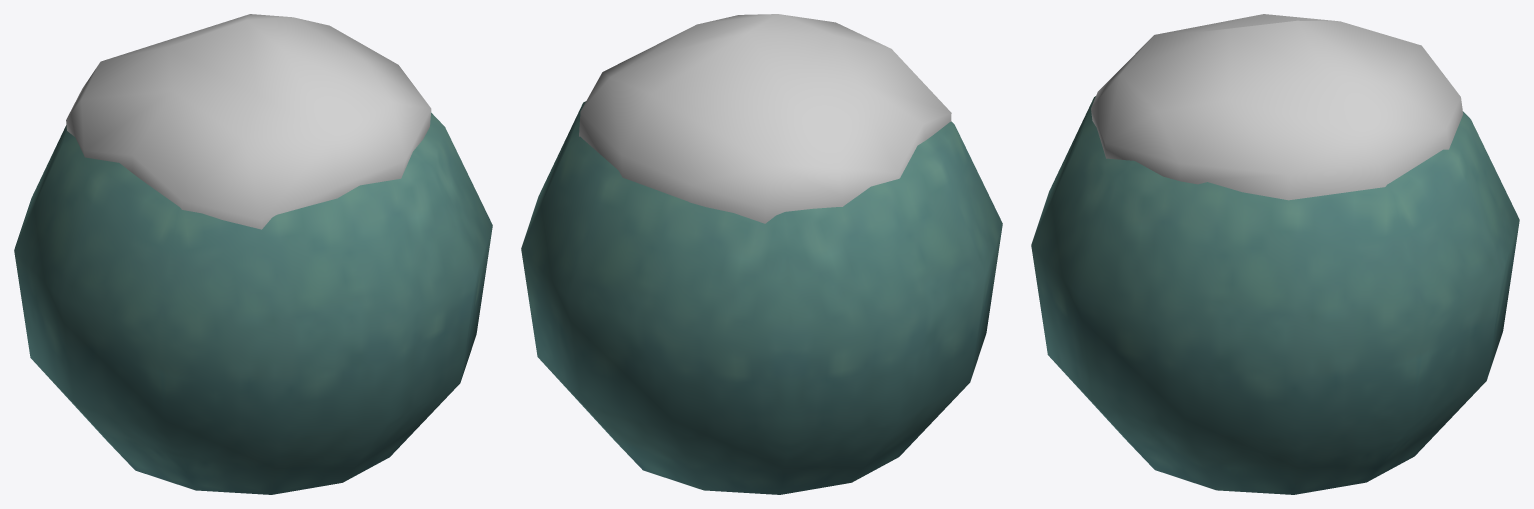
File: pref_sm_city_gtree03_snow_lv3.fbx
3 views of the same model, side by side, from view 1: azimuth 30°, elevation 25°; view 2: azimuth 150°, elevation 25°; view 3: azimuth 270°, elevation 25° (orthographic). The views are drawn at different scales.
Parts seen in each view (by area): view 1: sm_city_gtree03_snow_lv3, sm_city_gtree03c_snow_lv3; view 2: sm_city_gtree03_snow_lv3, sm_city_gtree03c_snow_lv3; view 3: sm_city_gtree03_snow_lv3, sm_city_gtree03c_snow_lv3.
Boxes of the visible parts, left/top/right/bottom form: sm_city_gtree03_snow_lv3: left=14, top=112, right=492, bottom=494; sm_city_gtree03c_snow_lv3: left=66, top=14, right=431, bottom=229; sm_city_gtree03_snow_lv3: left=521, top=101, right=1002, bottom=494; sm_city_gtree03c_snow_lv3: left=579, top=14, right=951, bottom=223; sm_city_gtree03_snow_lv3: left=1031, top=96, right=1519, bottom=494; sm_city_gtree03c_snow_lv3: left=1091, top=14, right=1463, bottom=200.
Size of the model in its own units: 1.22 by 1.14 by 1.22.
